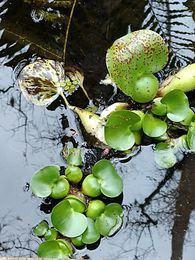water_hyacinth: (15, 29, 195, 260)
